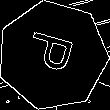P_E: (23, 31, 83, 81)
